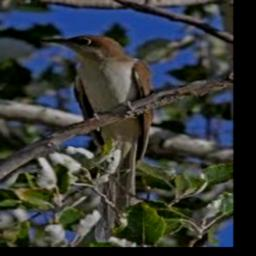Cuckoo: (42, 36, 154, 235)
